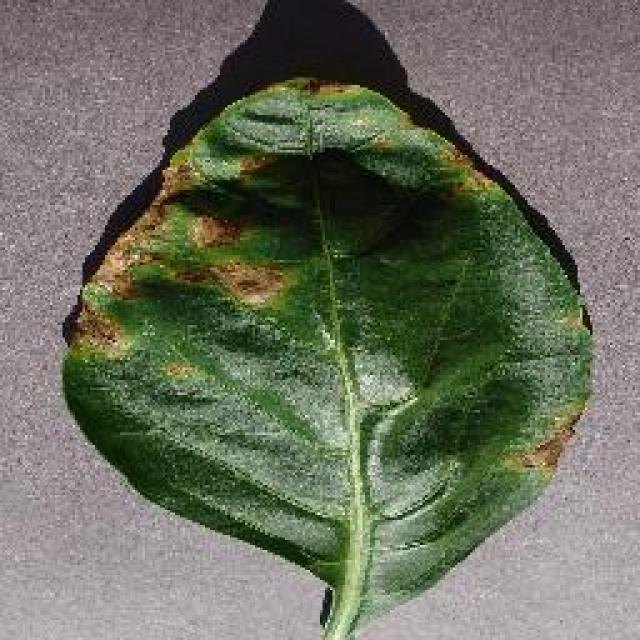Chilli_Bacterial_Spot: (58, 72, 598, 638), (205, 255, 287, 310), (182, 208, 240, 252), (518, 430, 568, 478), (155, 355, 200, 385), (298, 72, 348, 98), (300, 75, 322, 95)
